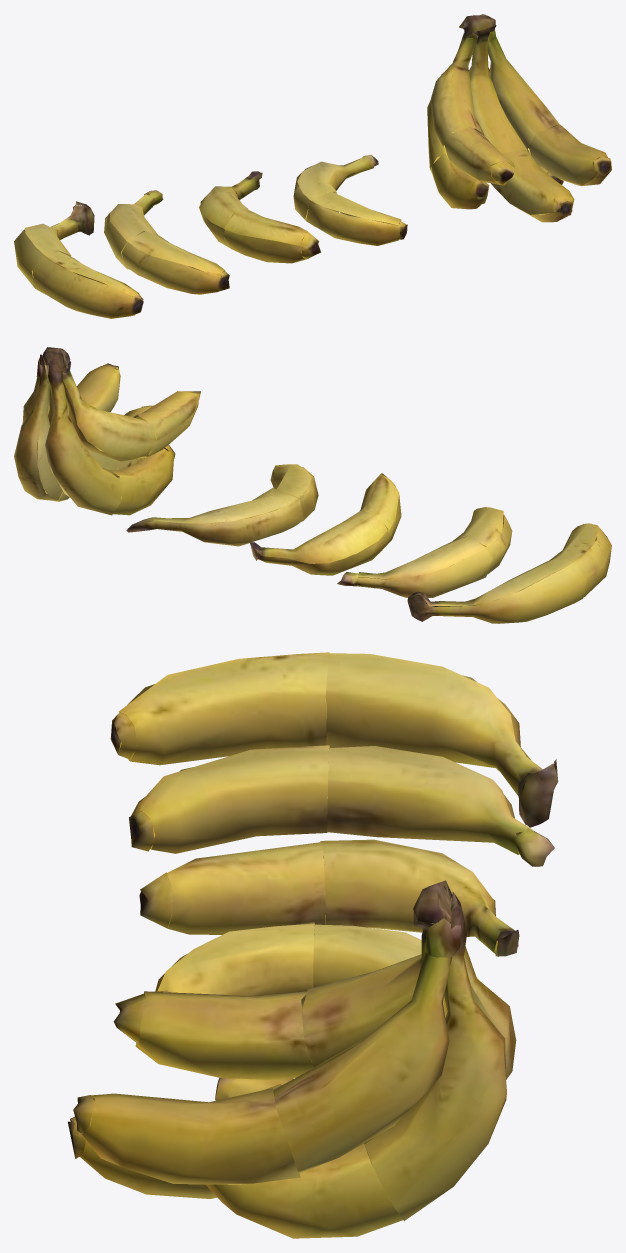
File: bananas.glb
3 views of the same model, one above another, from view 1: azimuth 30°, elevation 25°; view 2: azimuth 150°, elevation 25°; view 3: azimuth 270°, elevation 25° (orthographic). The views are drawn at different scales.
Visible parts, largest first — view 1: bananas_bunch, bananas_d, bananas_c, bananas_a, bananas_b; view 2: bananas_bunch, bananas_d, bananas_c, bananas_a, bananas_b; view 3: bananas_bunch, bananas_d, bananas_c, bananas_b, bananas_a.
Part boxes in pixels (<box>): bananas_bunch: <box>427,14,611,222</box>; bananas_d: <box>14,201,143,318</box>; bananas_c: <box>104,190,229,294</box>; bananas_a: <box>293,154,407,245</box>; bananas_b: <box>199,171,320,263</box>; bananas_bunch: <box>14,347,200,515</box>; bananas_d: <box>407,523,611,623</box>; bananas_c: <box>337,507,512,597</box>; bananas_a: <box>126,464,318,546</box>; bananas_b: <box>249,473,401,575</box>; bananas_bunch: <box>68,880,516,1238</box>; bananas_d: <box>110,652,558,827</box>; bananas_c: <box>129,745,554,866</box>; bananas_b: <box>139,839,519,956</box>; bananas_a: <box>155,922,479,996</box>.
Bounding box in the file's own units: 0.6008 × 0.1782 × 0.2434.
1 material, 1 textured.
